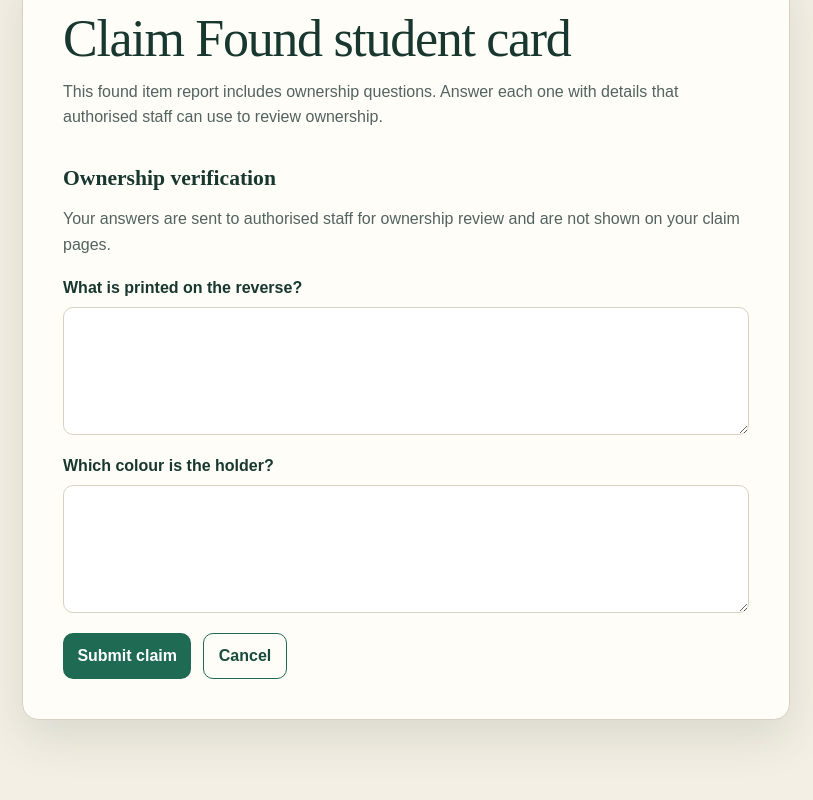
ClaimSubmissionClient submission › validates blanks before sending
This screenshot has width=813, height=800.
(page scrolled)
Expected: the heading "Claim Found student card" is shown, 63,10 -> 570,67
Click the button "Submit claim": [127, 656] box 63,632 -> 191,679
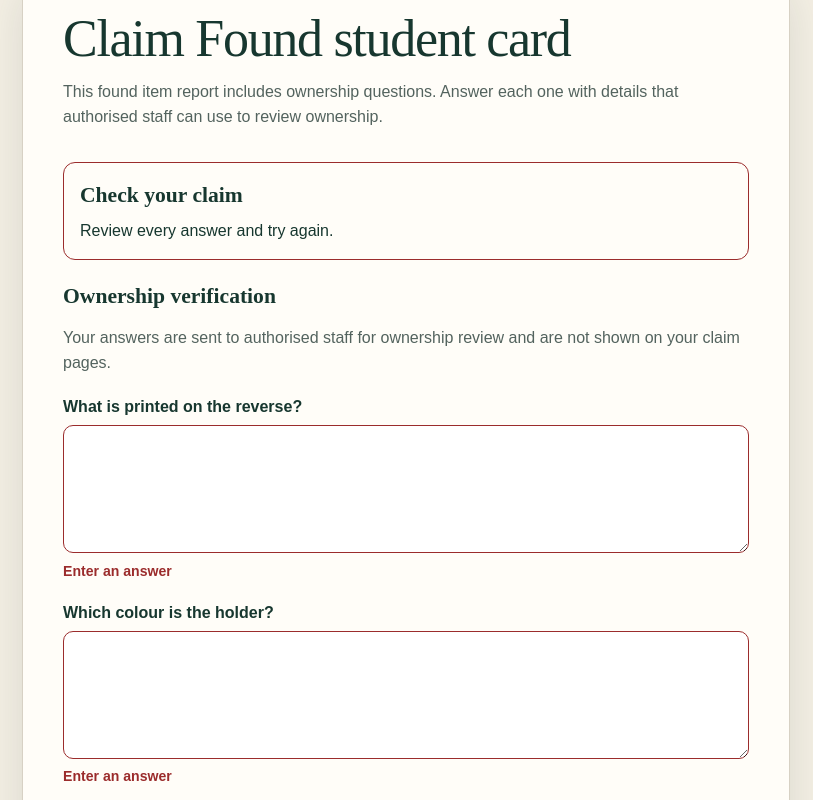
Now the message shows "Review every answer and try again.", box 80,222 -> 334,239
Now the text "Enter an answer" is shown 2 times, box 63,562 -> 172,578; 63,768 -> 172,784
